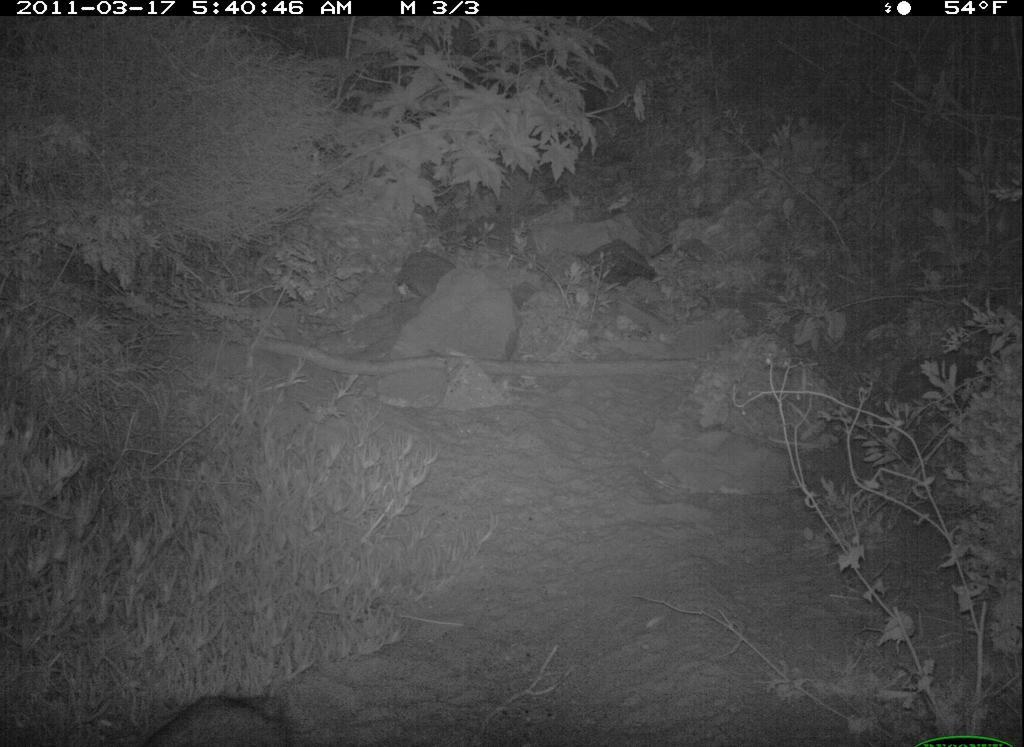raccoon: (137, 683, 306, 743)
